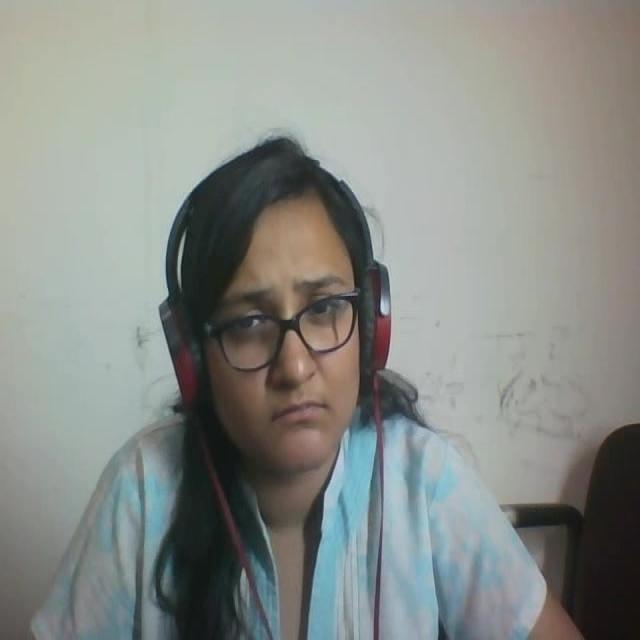Bored: (154, 126, 412, 514)
